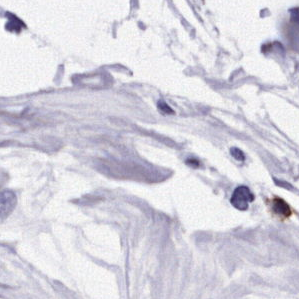Lymphocyte: (267, 196, 293, 219)
